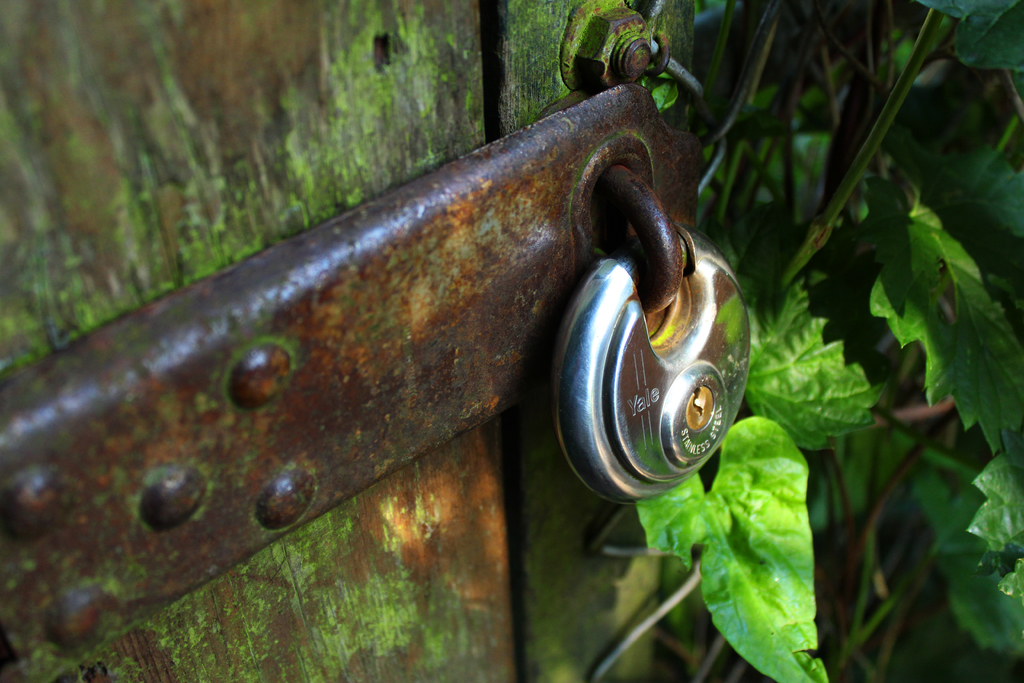door: (7, 9, 624, 667)
